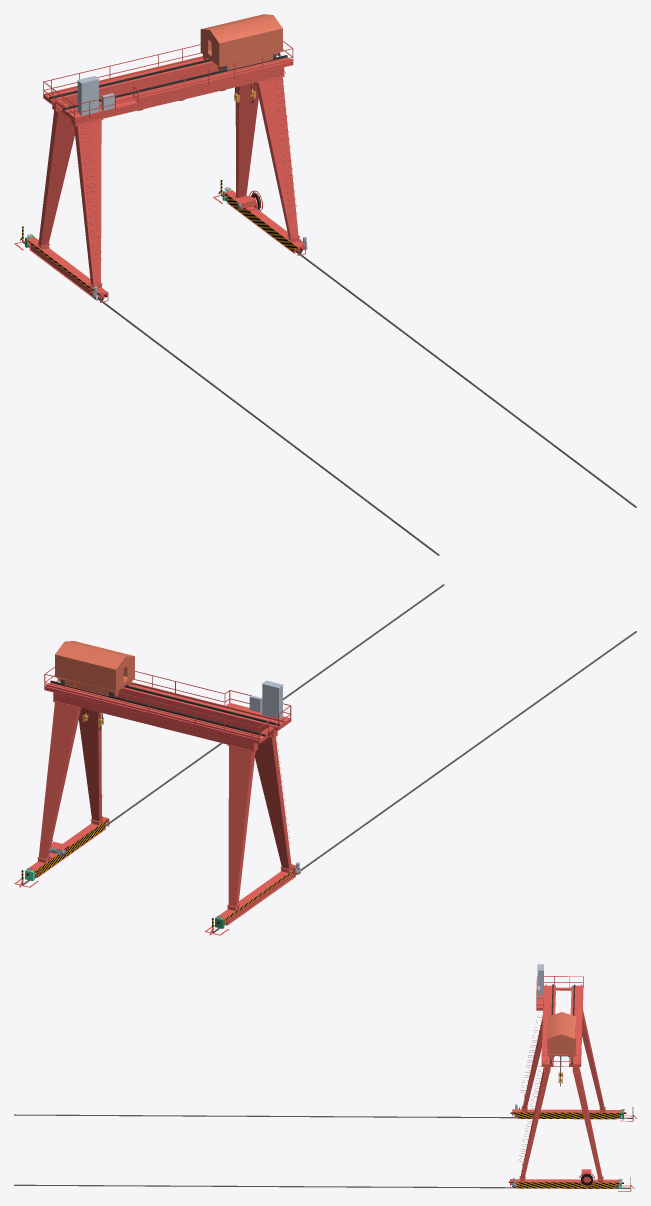
Rendered from CK-longmendiao0001-SB.FBX.
3 views of the same model, one above another, from view 1: azimuth 30°, elevation 25°; view 2: azimuth 150°, elevation 25°; view 3: azimuth 270°, elevation 25° (orthographic). The views are drawn at different scales.
Parts seen in each view (by area): view 1: ZCCK-LMDLMD0002; view 2: ZCCK-LMDLMD0002; view 3: ZCCK-LMDLMD0002.
Boxes of the visible parts, bbox=[...] form: ZCCK-LMDLMD0002: bbox=[14, 14, 636, 555]; ZCCK-LMDLMD0002: bbox=[14, 584, 636, 935]; ZCCK-LMDLMD0002: bbox=[14, 964, 636, 1191].
Size of the model in its own units: 18.29 by 16.82 by 60.88.
Materials: 3 (3 with a texture image).
